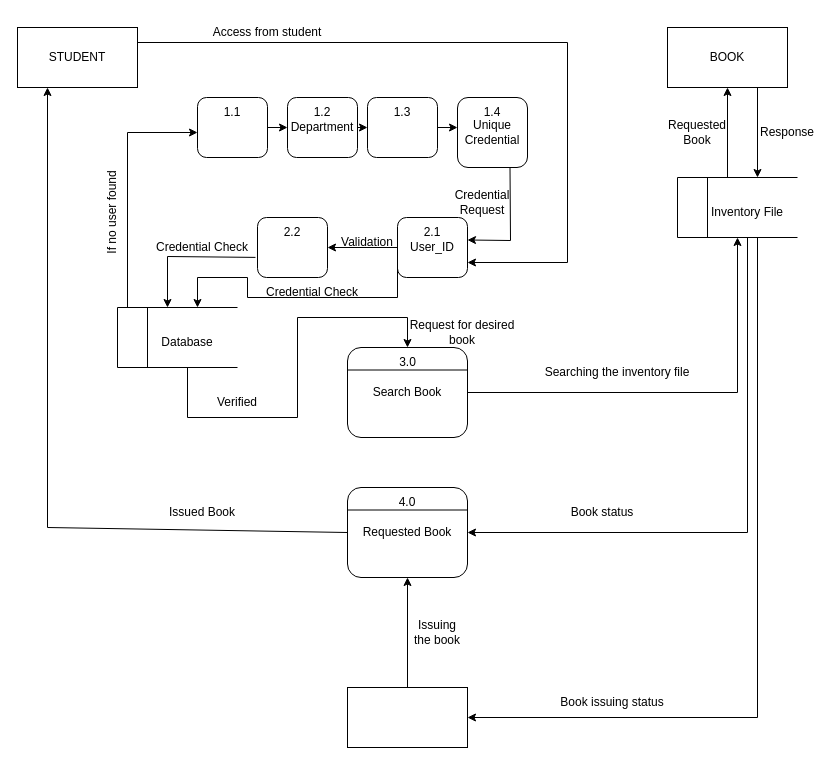
This 835x765 diagram has some shape labels left out. The box of each missing label's shape, as (x1, y1, x2, y2) in pixels:
ADMIN: (346, 686, 468, 748)
NAME: (196, 96, 268, 158)
Password: (256, 216, 328, 278)
Phone: (366, 96, 438, 158)
